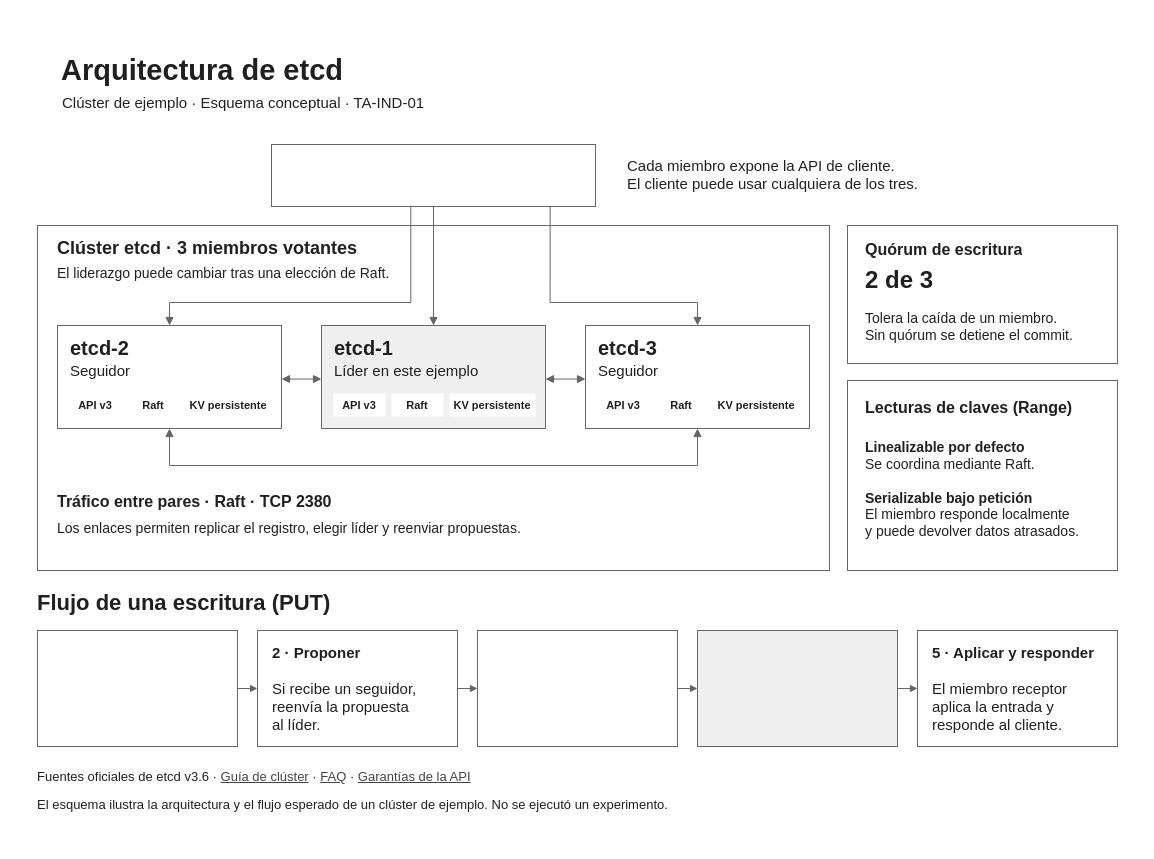
Some shapes in this 1154 by 859 pixel diagram are drawn without their labels. The centre of each missing label's shape, as x and y in pixels:
1 · Enviar El cliente envía PUT a cualquier miembro.: the point at 137,688
3 · Replicar El líder registra la propuesta y replica la entrada.: the point at 577,688
4 · Confirmar El líder hace commit al replicarse la entrada en 2 de 3 miembros.: the point at 797,688
Cliente · etcdctl o aplicación API v3 por gRPC · TCP 2379: the point at 433,175
